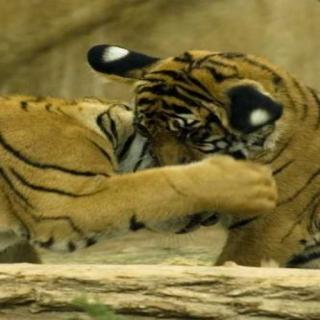Tiger: (101, 29, 320, 273), (0, 64, 163, 273)
